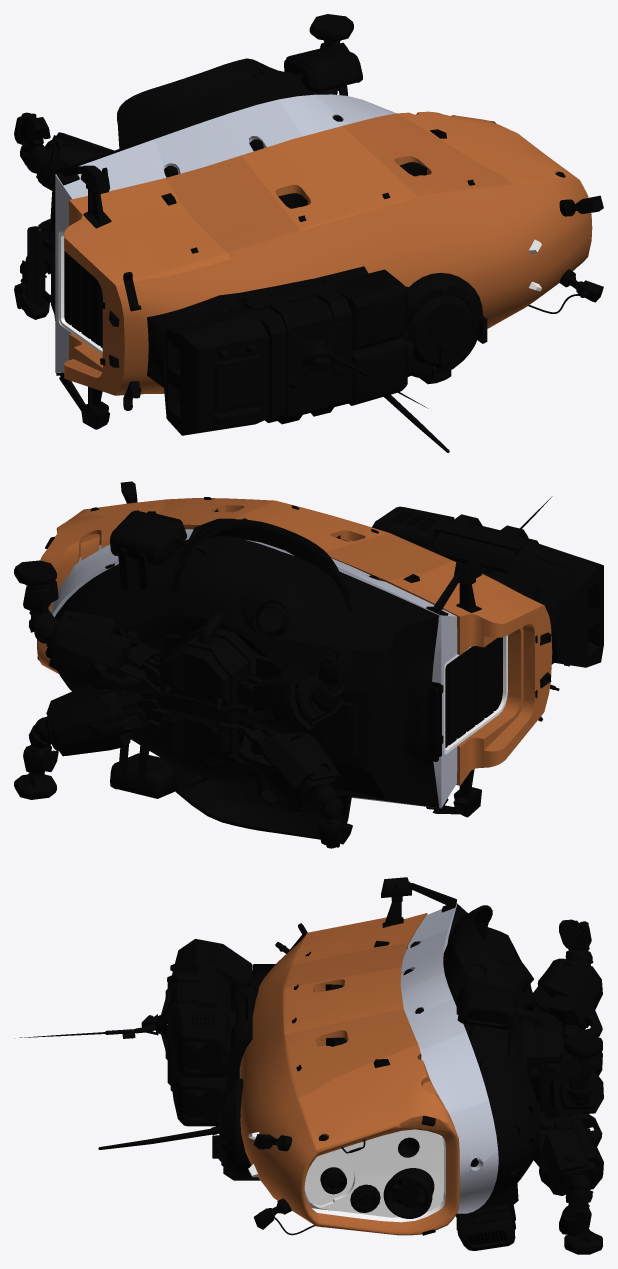
The model's file is VehicleBody.fbx.
The picture shows the model from 3 angles, top to bottom: view 1: azimuth 30°, elevation 25°; view 2: azimuth 150°, elevation 25°; view 3: azimuth 270°, elevation 25°; orthographic projection. The views are drawn at different scales.
Parts seen in each view (by area): view 1: Body; view 2: Body; view 3: Body.
Boxes of the visible parts, x1,y1,x2,y2 form: Body: (14, 14, 603, 452); Body: (14, 481, 603, 848); Body: (19, 877, 603, 1254).
Size of the model in its own units: 31.09 by 19.53 by 36.92.
